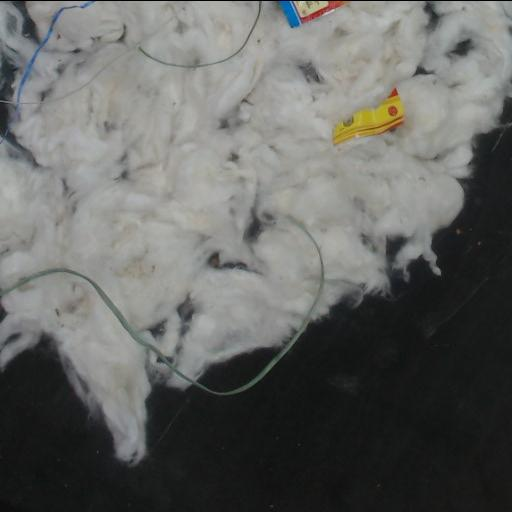conveyor belt: (0, 127, 511, 512), (0, 1, 38, 99), (202, 350, 275, 388), (0, 102, 26, 154)
cotton: (0, 1, 511, 377), (0, 275, 187, 463)
packet: (333, 88, 403, 144), (279, 1, 348, 27)
thread: (0, 216, 326, 395), (4, 1, 96, 113), (136, 1, 261, 68), (64, 77, 94, 95)
